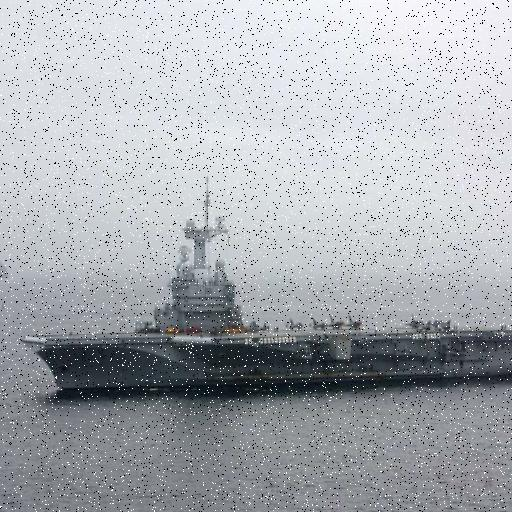Portanaves: (18, 169, 512, 400)
